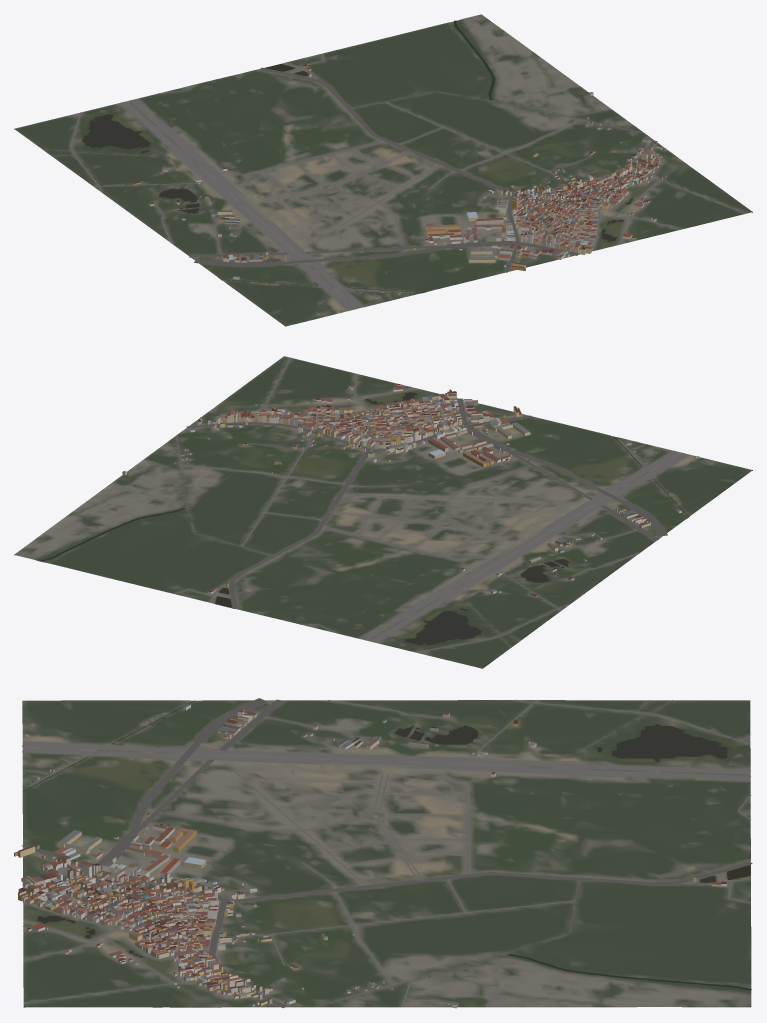
3 renders of one model, top to bottom at view 1: azimuth 30°, elevation 25°; view 2: azimuth 150°, elevation 25°; view 3: azimuth 270°, elevation 25°, orthographic. The views are drawn at different scales.
Parts seen in each view (by area): view 1: ground, roads, buildings, water; view 2: ground, roads, buildings, water; view 3: ground, buildings, roads, water.
Part boxes in pixels (left/top/right/bottom): ground: left=14, top=14, right=752, bottom=326; roads: left=43, top=53, right=746, bottom=310; buildings: left=133, top=64, right=666, bottom=312; water: left=82, top=20, right=632, bottom=292; ground: left=14, top=356, right=752, bottom=668; roads: left=112, top=357, right=689, bottom=655; buildings: left=122, top=384, right=699, bottom=597; water: left=40, top=392, right=688, bottom=644; ground: left=22, top=700, right=751, bottom=1007; buildings: left=14, top=704, right=727, bottom=1008; roads: left=21, top=698, right=752, bottom=1007; water: left=23, top=700, right=751, bottom=990.
Size of the model in its own units: 1413 by 31.46 by 1423.
